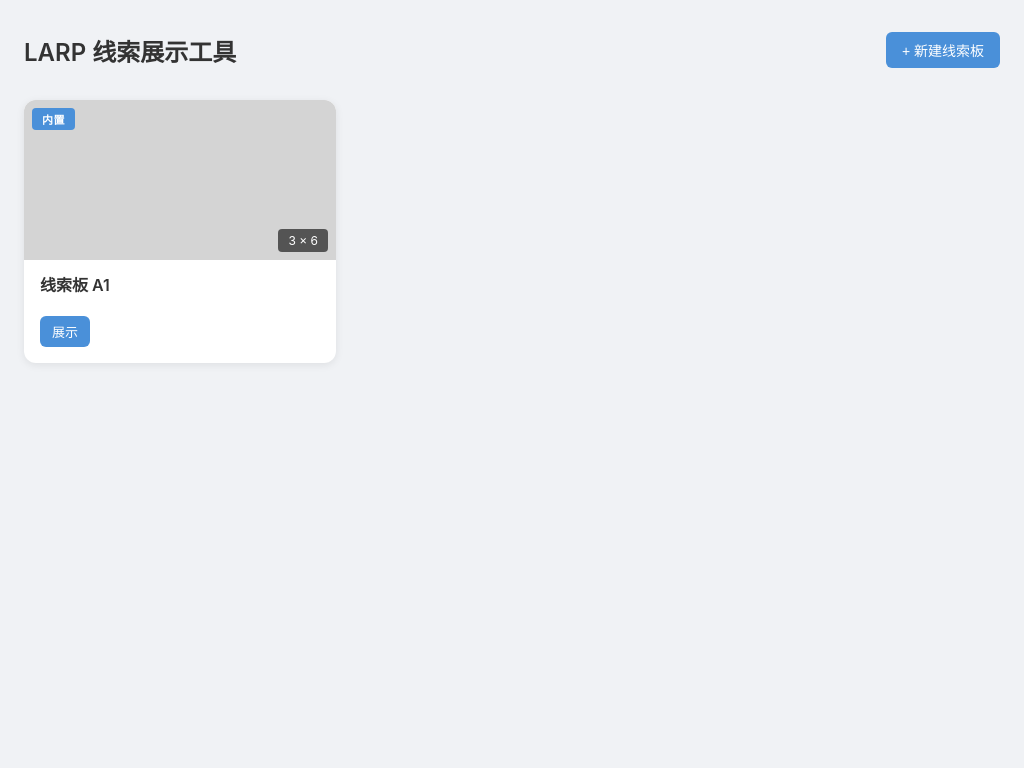
Scenario: opens the custom clue board form from the list
Check: the heading "线索板 A1" is shown, box [40,275,110,295]
What coordinates should you click on to do the following:
click the button "+ 新建线索板"
I would click on:
 (943, 50)
Its box is [886,32,1000,68].
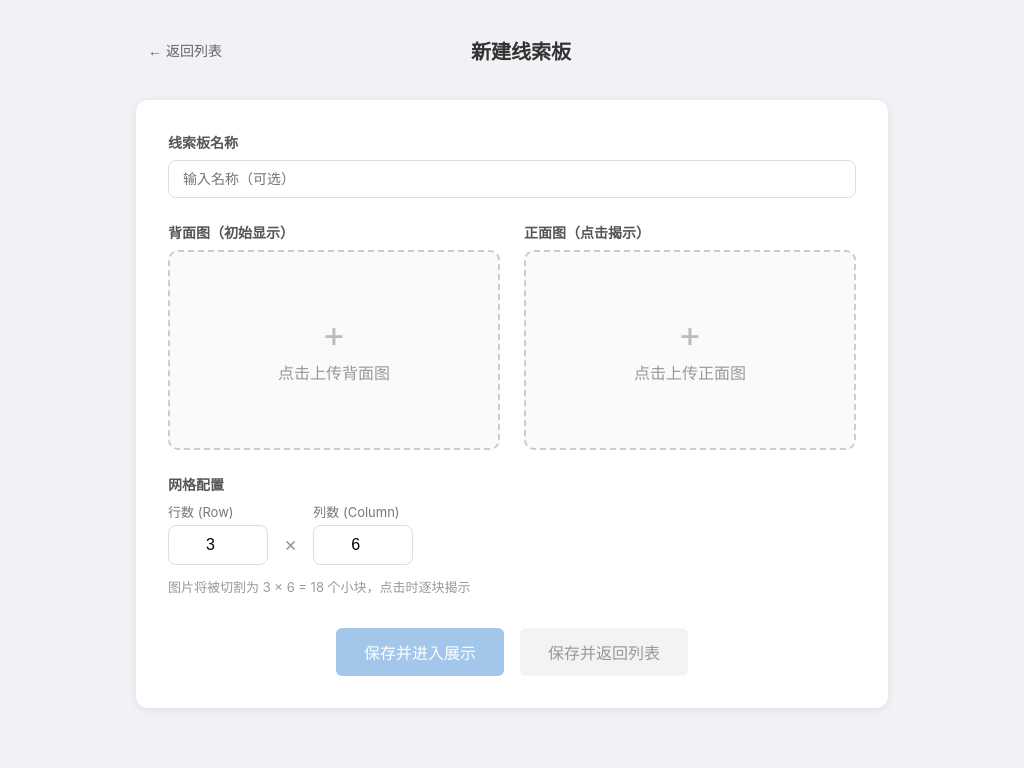
Check: the heading "新建线索板" is shown, box [471,36,571,64]
Check: the button "保存并进入展示" is disabled, box [336,628,504,676]
